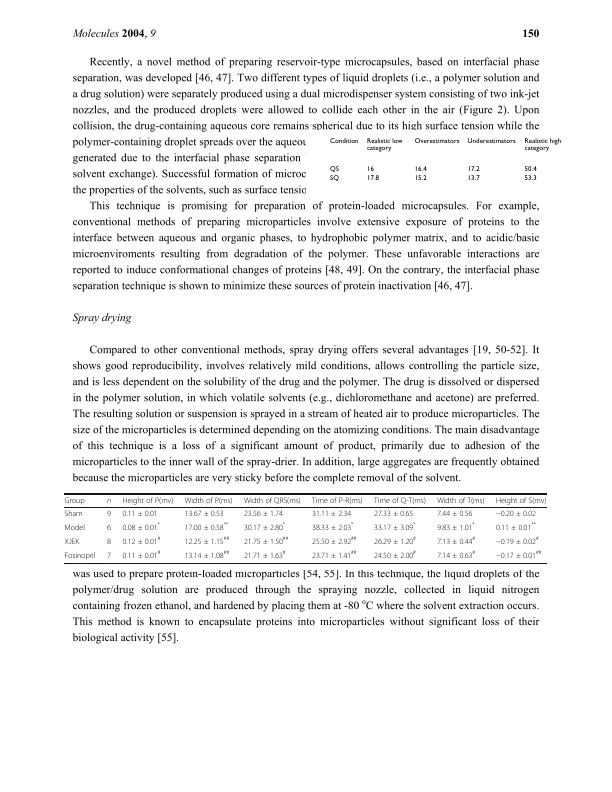borderless: (64, 492, 547, 563), (324, 135, 564, 193)
cell: (523, 137, 562, 153), (365, 137, 403, 153), (243, 496, 302, 505), (495, 549, 542, 560), (184, 535, 230, 546), (243, 535, 289, 546), (311, 535, 357, 546), (184, 549, 230, 560), (311, 549, 357, 560), (184, 521, 229, 532), (495, 535, 540, 546), (373, 496, 427, 505), (373, 535, 417, 546), (243, 549, 287, 560), (373, 549, 417, 560), (121, 496, 174, 505), (311, 496, 364, 505), (243, 521, 286, 532), (311, 521, 354, 532), (373, 521, 416, 532), (495, 496, 547, 505), (495, 521, 537, 532), (466, 137, 516, 146), (436, 496, 486, 505), (184, 496, 233, 505), (121, 521, 161, 532), (436, 521, 476, 532), (121, 535, 161, 546), (436, 535, 476, 546), (121, 549, 161, 560), (436, 549, 476, 560), (413, 137, 460, 146), (495, 509, 537, 518), (184, 509, 225, 518), (243, 509, 284, 518), (311, 509, 352, 518), (373, 509, 414, 518), (121, 509, 159, 518), (436, 509, 473, 518), (64, 551, 96, 560), (329, 137, 359, 146), (64, 523, 86, 532), (64, 496, 85, 505), (64, 509, 83, 518), (64, 537, 80, 546), (413, 165, 427, 174), (466, 165, 480, 174), (523, 165, 537, 174), (365, 174, 379, 183), (413, 174, 427, 183), (466, 174, 480, 183), (523, 174, 537, 183), (329, 165, 339, 174), (329, 174, 339, 183), (365, 165, 374, 174), (106, 509, 112, 518), (106, 523, 112, 532), (106, 537, 112, 546), (106, 551, 112, 560), (106, 498, 112, 504)
